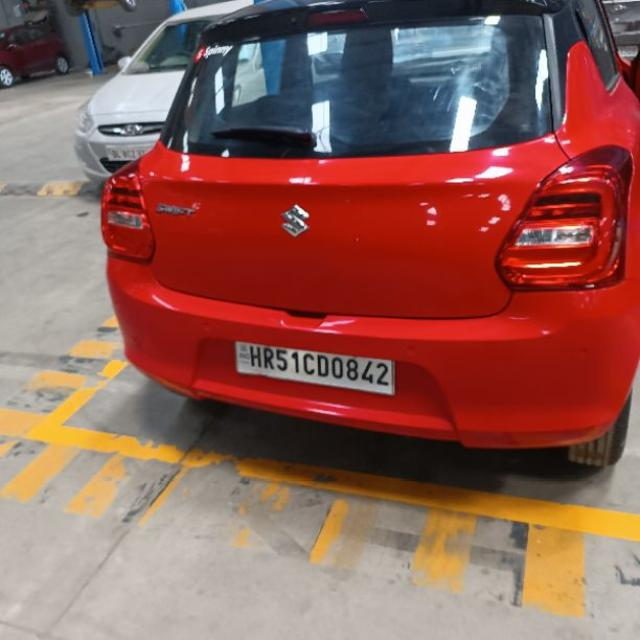license_plate: (232, 339, 396, 396)
